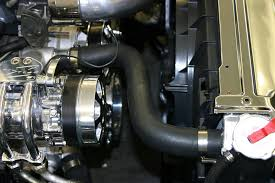radiator_hose: (78, 45, 220, 150)
